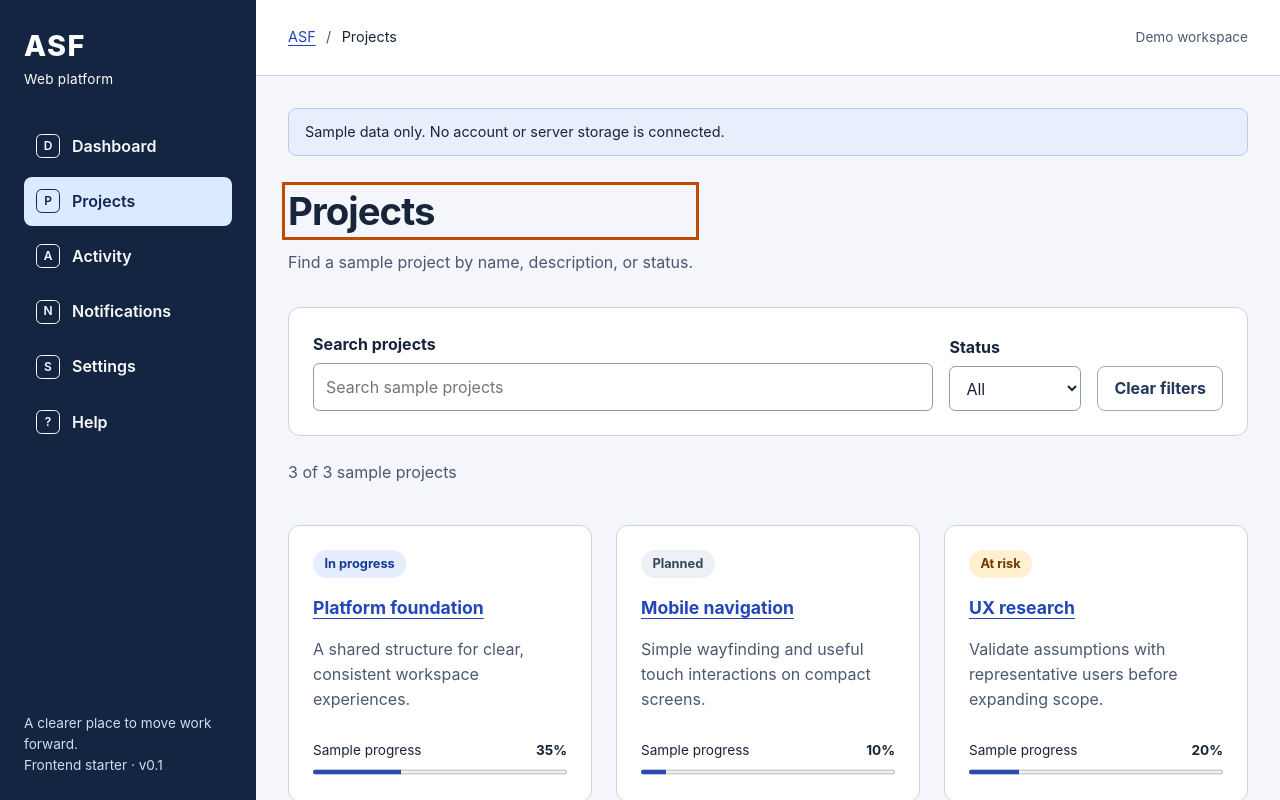
it: filters projects and recovers from no results
This screenshot has width=1280, height=800.
Step 1. Type "no-such-project" into the search field labelled "Search projects" → (623, 387), box [313,363,933,411]
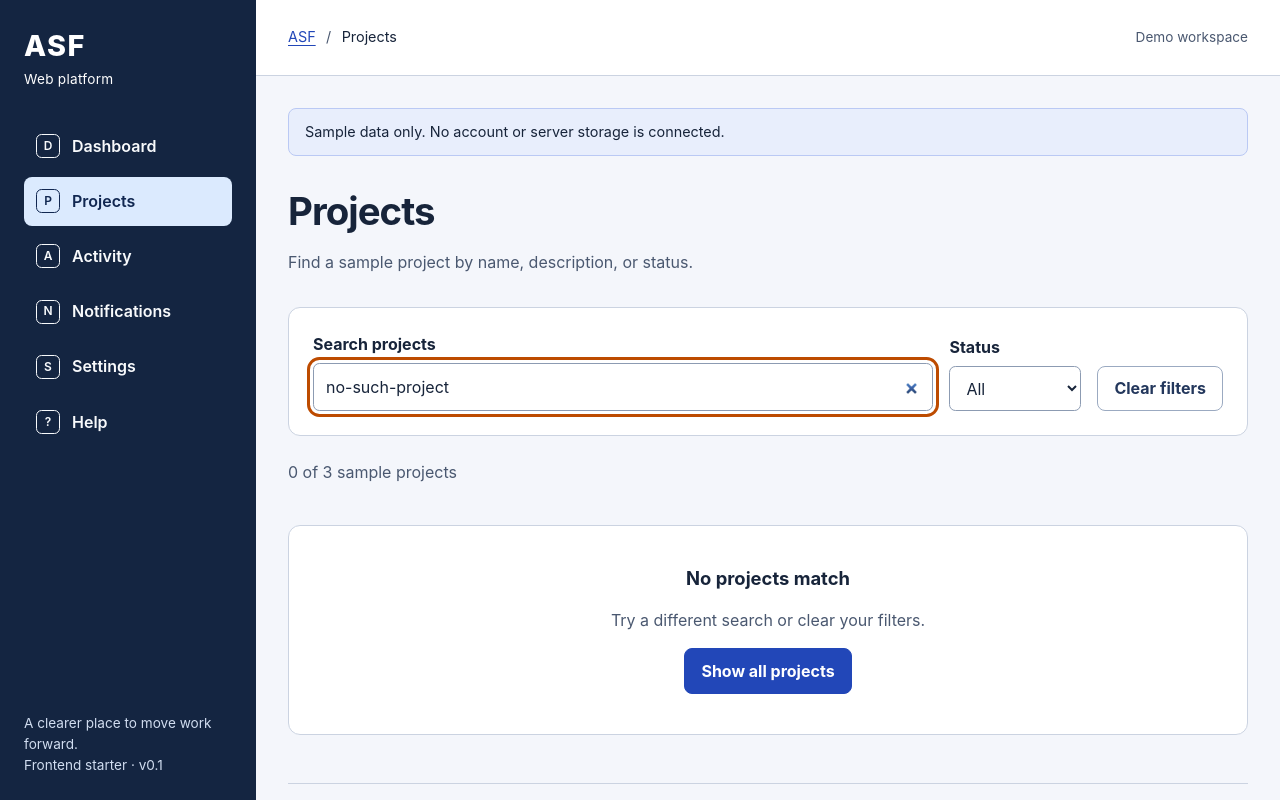
Expected: the heading "No projects match" is shown, [686,567,850,589]
Step 2. Click the button "Show all projects" → click(768, 671), box [684,648,852,694]
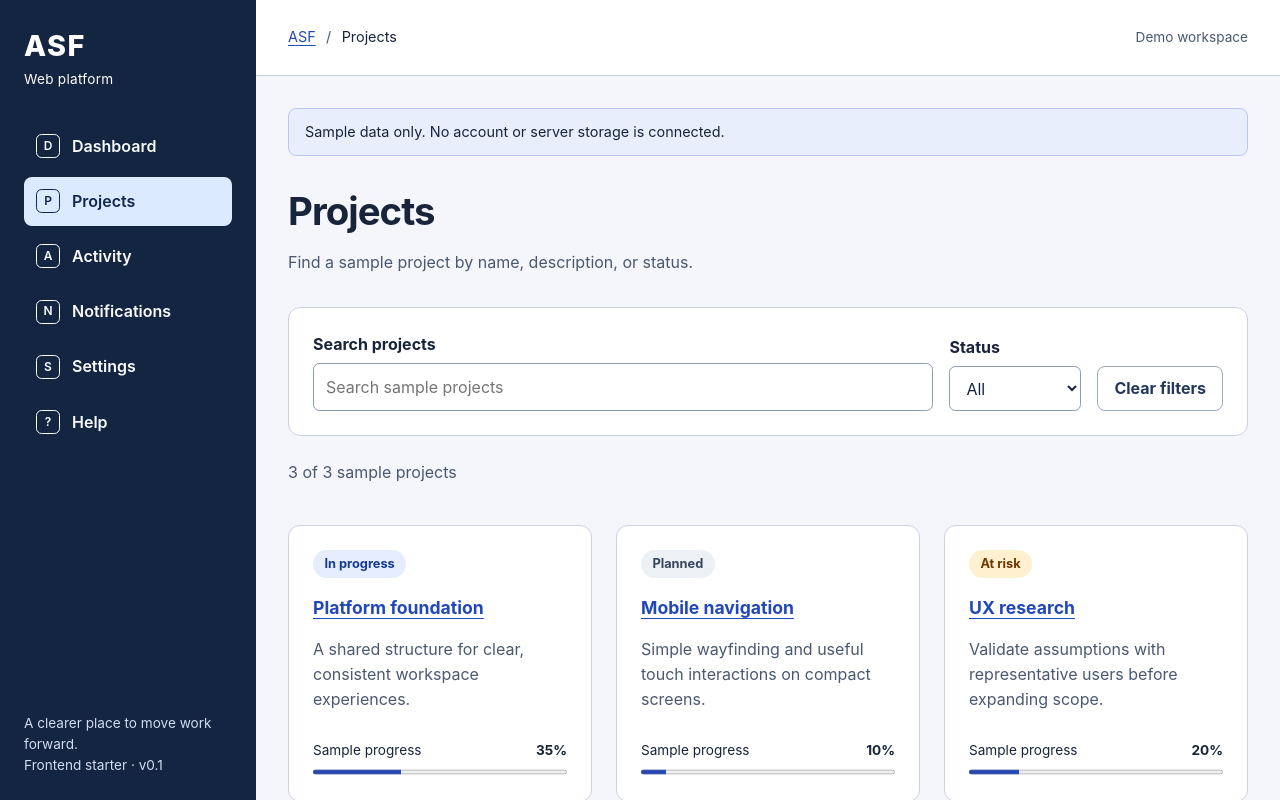
Expected: the link "Platform foundation" is shown, [313,597,484,618]
Expected: the message reads "3 of 3 sample projects", [288,462,457,482]
